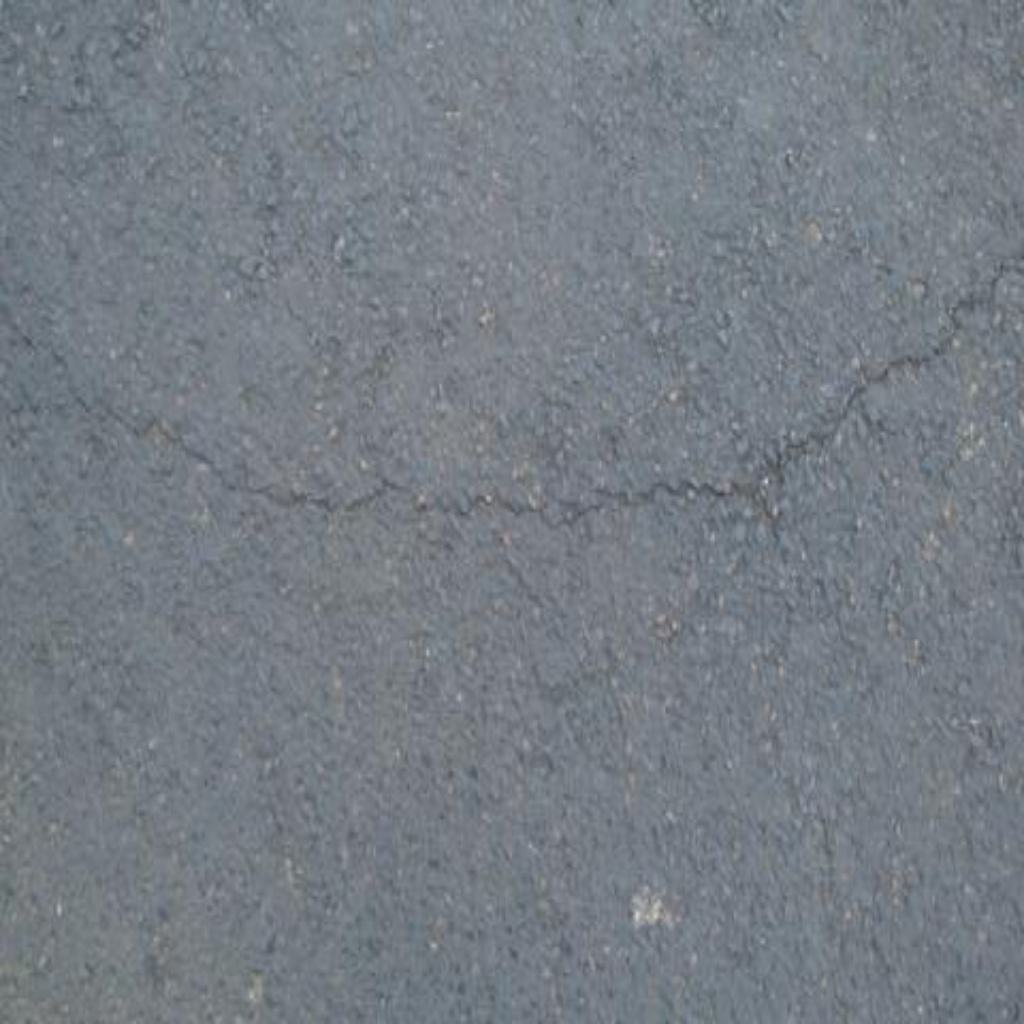Crack: (83, 249, 1024, 530)
